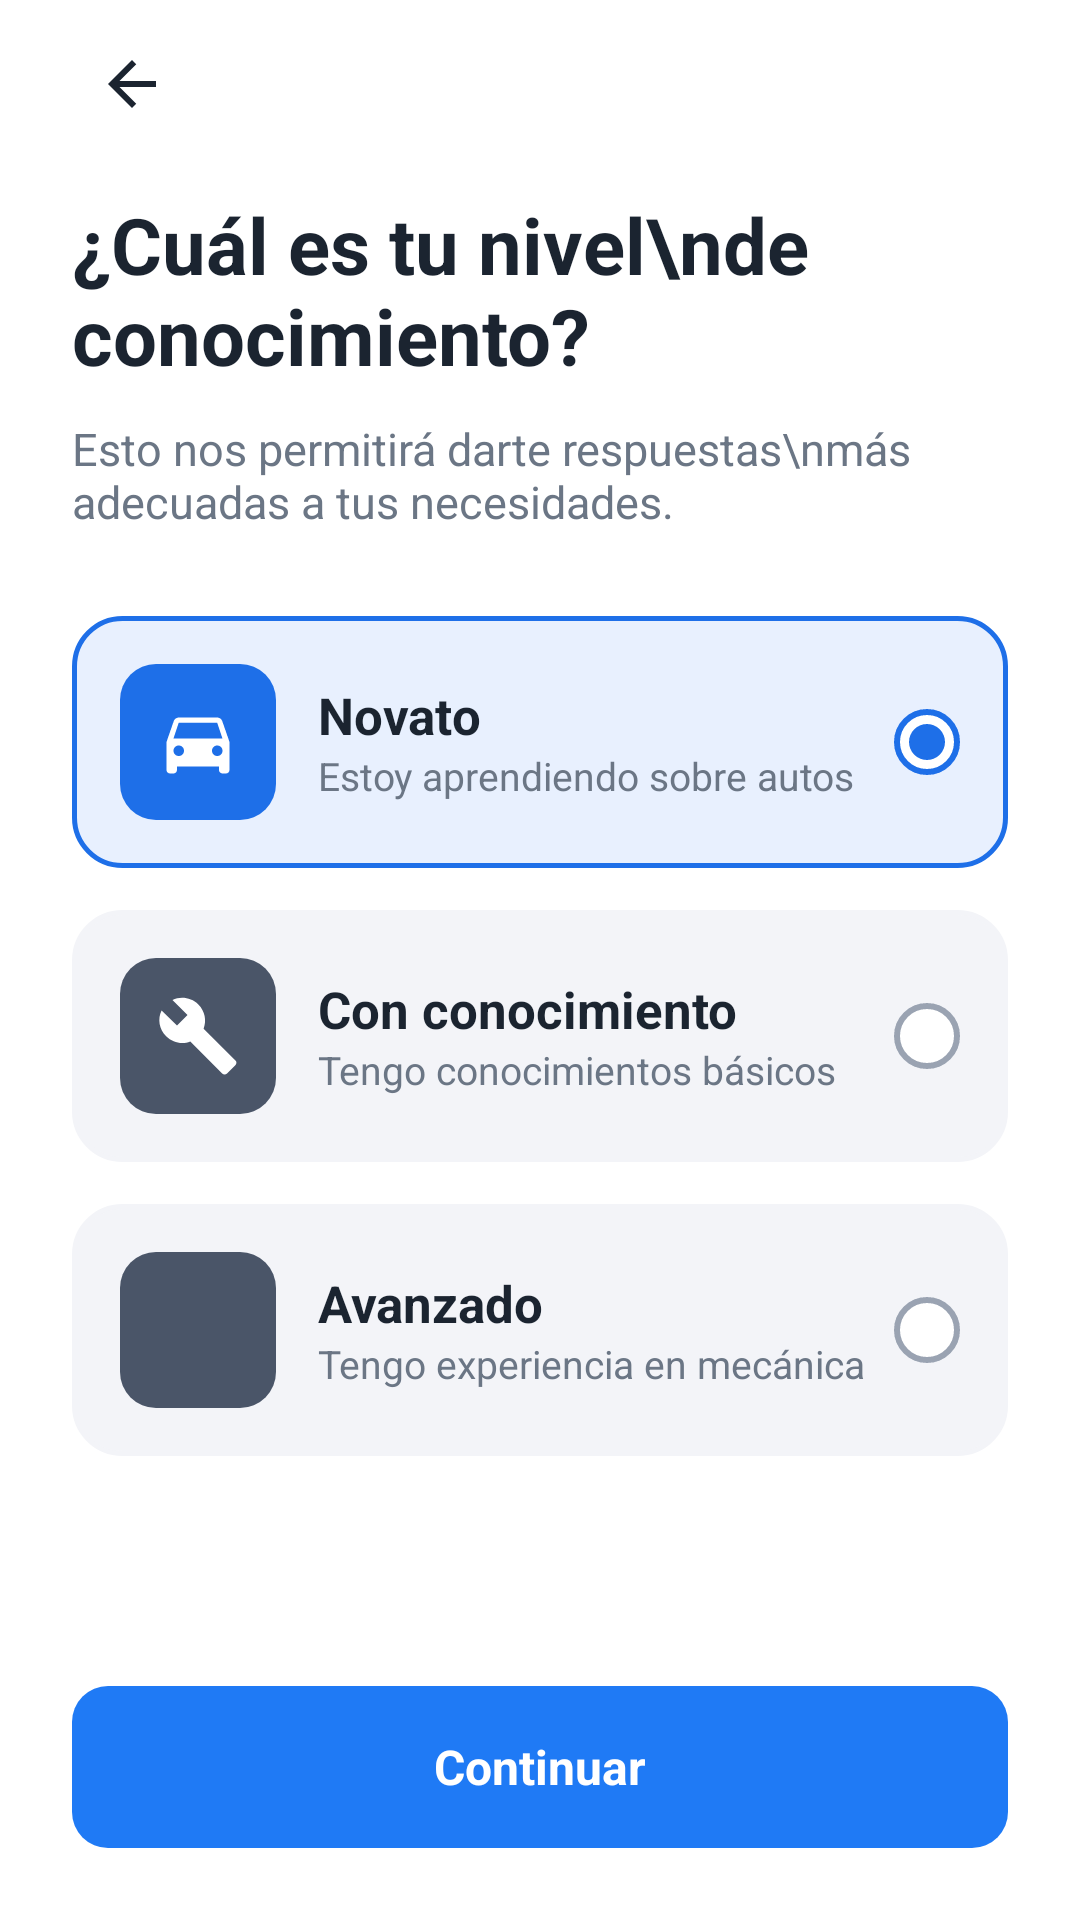

Icons on this 1080×1920 Android screen, each with the point to tap as (x,y):
nivel auto: (198,742)
nivel herramientas: (198,1036)
radio off: (927,1036), (927,1330)
radio on: (927,742)
Volver: (132,84)
